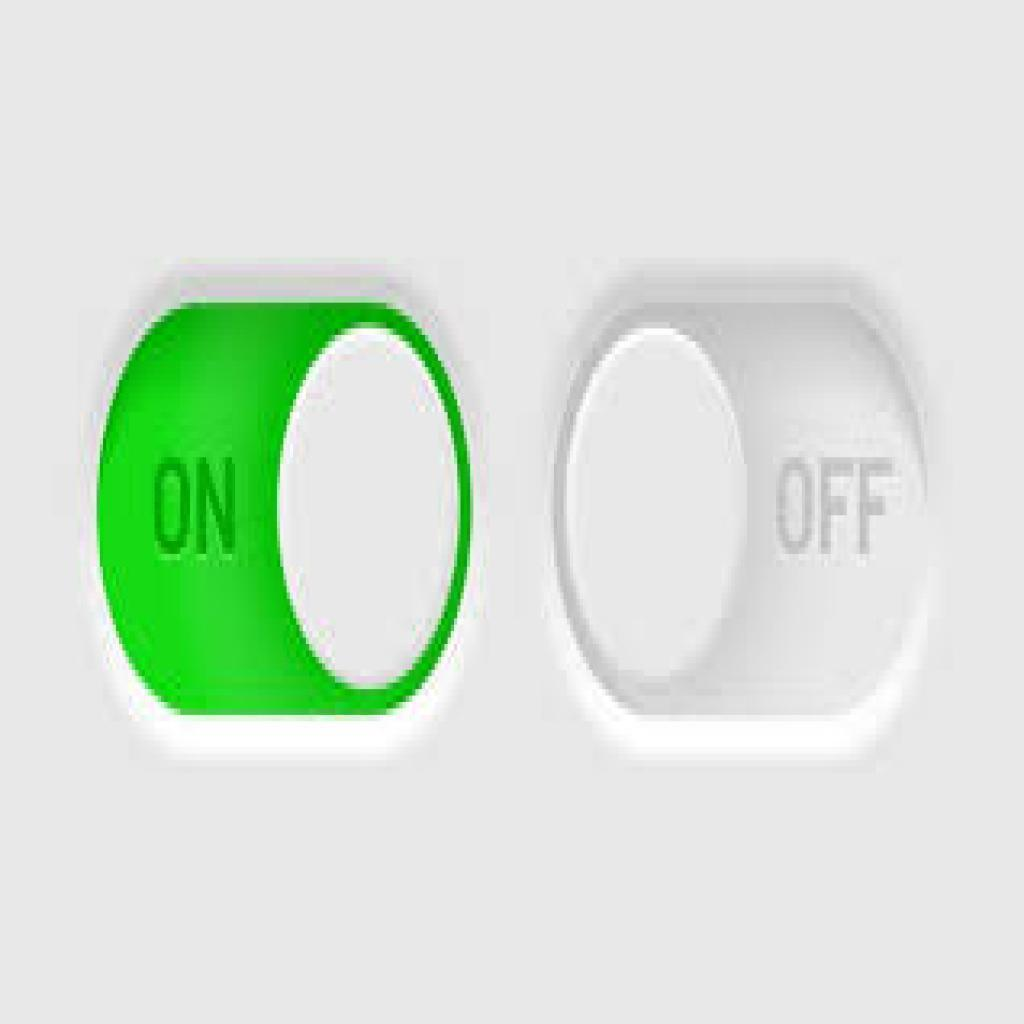switch: (550, 299, 935, 719), (96, 301, 476, 720)
